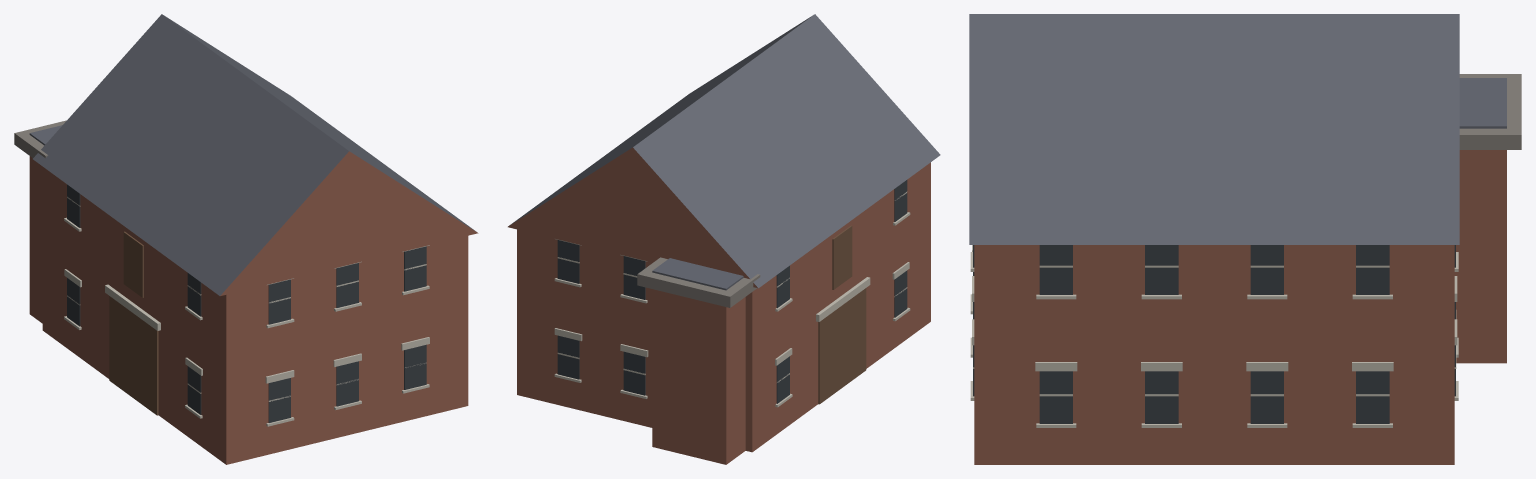
Rendered from house_2000_prairie_coach_house__draft_1904.glb.
3 renders of one model, left to right at view 1: azimuth 30°, elevation 25°; view 2: azimuth 150°, elevation 25°; view 3: azimuth 270°, elevation 25°, orthographic. The views are drawn at different scales.
Parts seen in each view (by area): view 1: house_2000_prairie_coach_house__draft_1904; view 2: house_2000_prairie_coach_house__draft_1904; view 3: house_2000_prairie_coach_house__draft_1904.
Part boxes in pixels (x1,y1,x2,y2): house_2000_prairie_coach_house__draft_1904: (14,14,478,464); house_2000_prairie_coach_house__draft_1904: (508,14,940,464); house_2000_prairie_coach_house__draft_1904: (969,14,1521,464).
Size of the model in its own units: 9.35 by 9.87 by 13.22.
